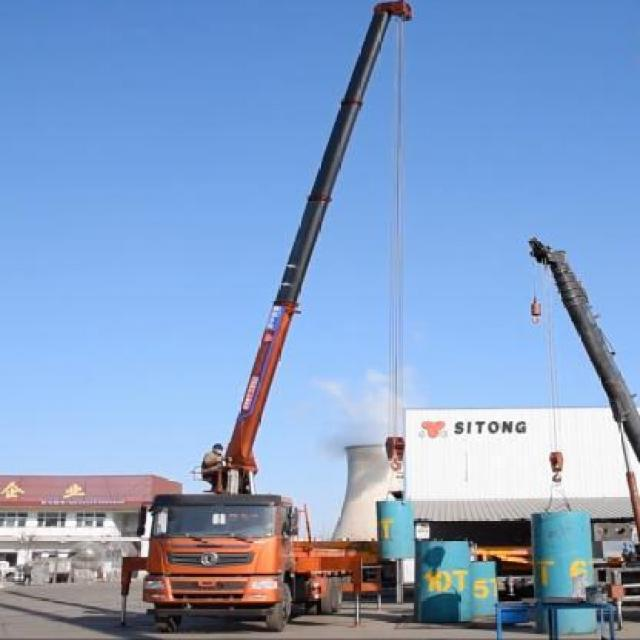Mobile Crane: (118, 1, 416, 639)
